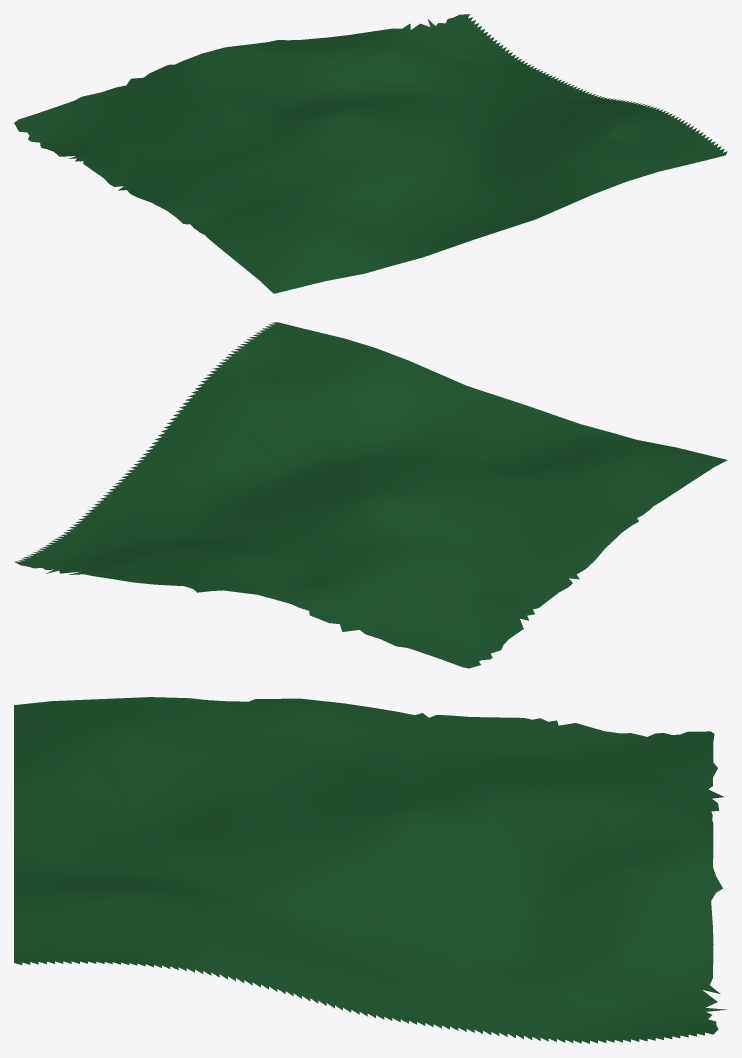
File: payo_land_x2_ym3_lod2.glb
The picture shows the model from 3 angles, top to bottom: view 1: azimuth 30°, elevation 25°; view 2: azimuth 150°, elevation 25°; view 3: azimuth 270°, elevation 25°; orthographic projection. The views are drawn at different scales.
Visible parts, largest first — view 1: payo_land_x2_ym3; view 2: payo_land_x2_ym3; view 3: payo_land_x2_ym3.
Part boxes in pixels (x1,y1,x2,y2): payo_land_x2_ym3: [14, 14, 727, 293]; payo_land_x2_ym3: [14, 322, 727, 668]; payo_land_x2_ym3: [14, 697, 726, 1043].
Bounding box in the file's own units: 260 × 32.45 × 260.
